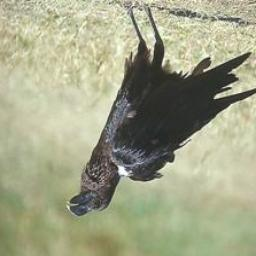Crow: (65, 4, 256, 219)
